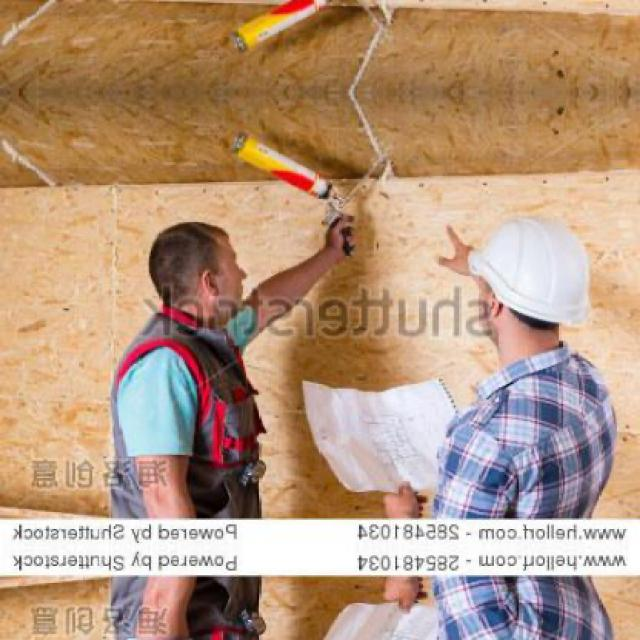helmet: (464, 213, 596, 361)
